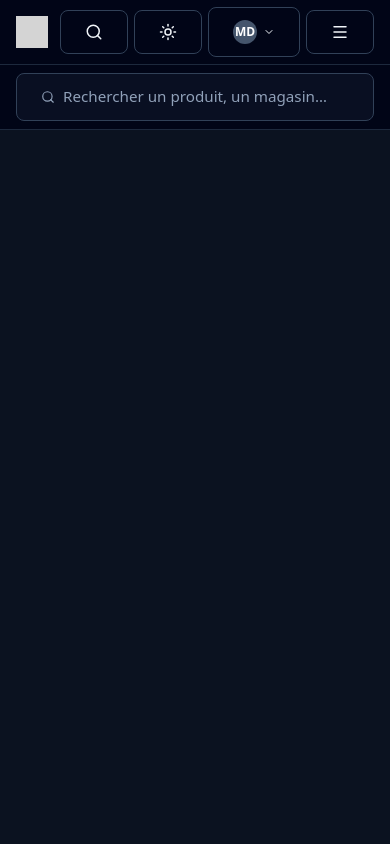
it: layout/Header › shows displayName in mobile menu when authenticated
Note: Open the mobile navigation menu
Click the button named "ouvrir le menu": (340, 32) [306,10,374,54]
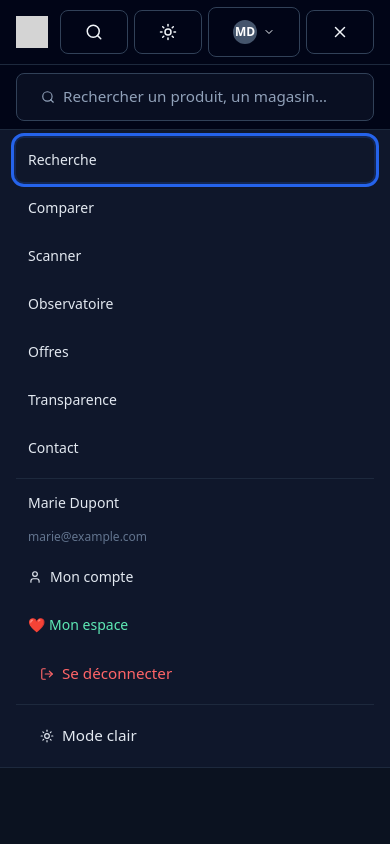
Expected: the text "Marie Dupont" is shown, [28,493,119,512]
Expected: the text "marie@example.com" is shown, [28,528,147,545]
